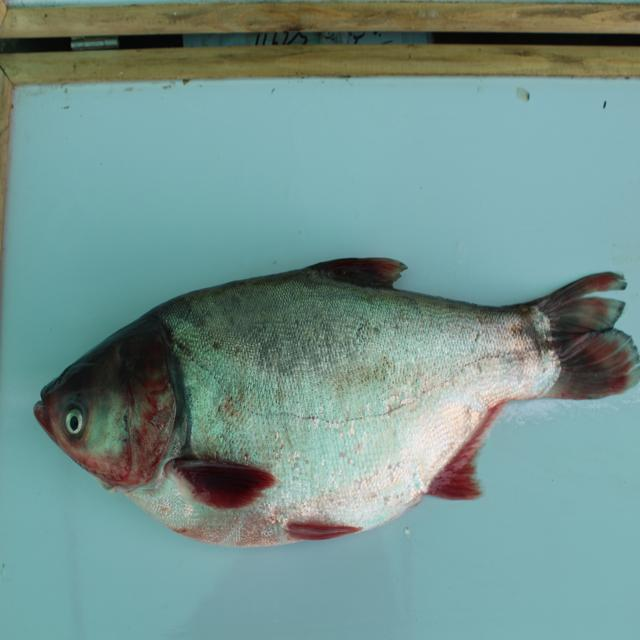SilverCarp: (55, 243, 634, 537)
